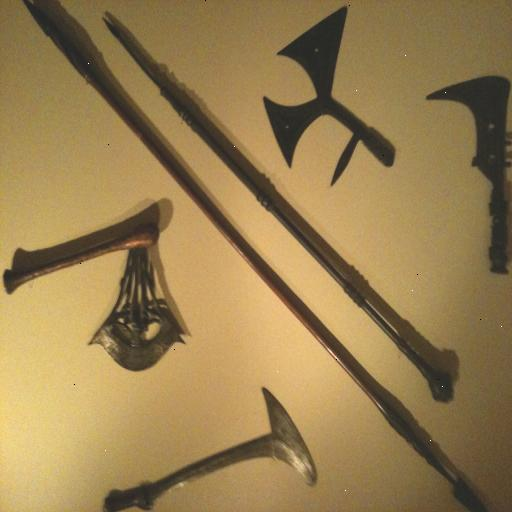Axe: (0, 201, 190, 373)
